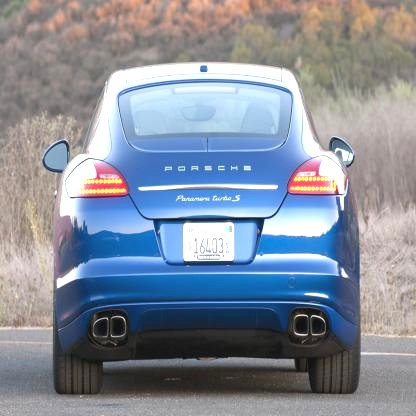Vehicle: (43, 63, 361, 396)
